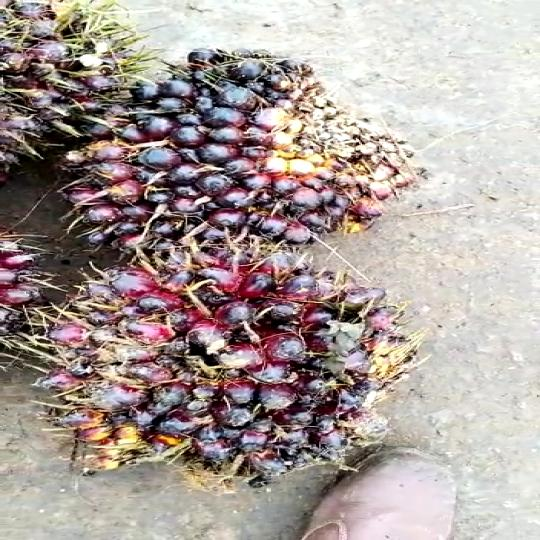kurang masak: (0, 238, 396, 488), (77, 24, 370, 261)
